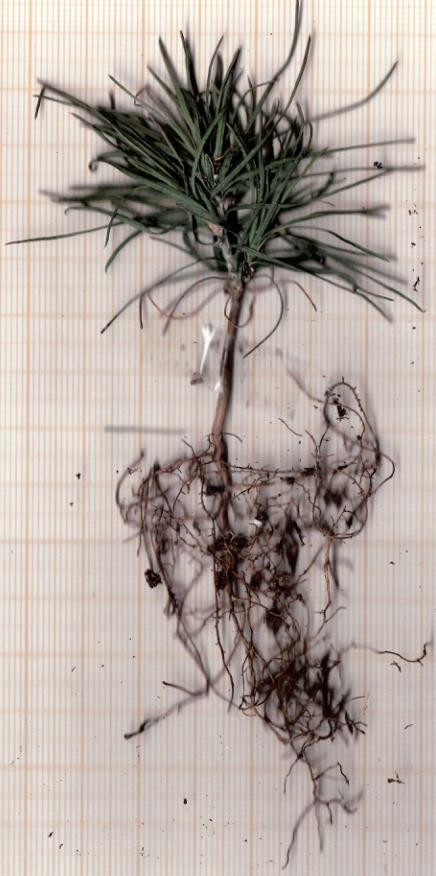flower: (7, 0, 436, 299)
root: (97, 368, 399, 876)
stem: (201, 288, 248, 435)
